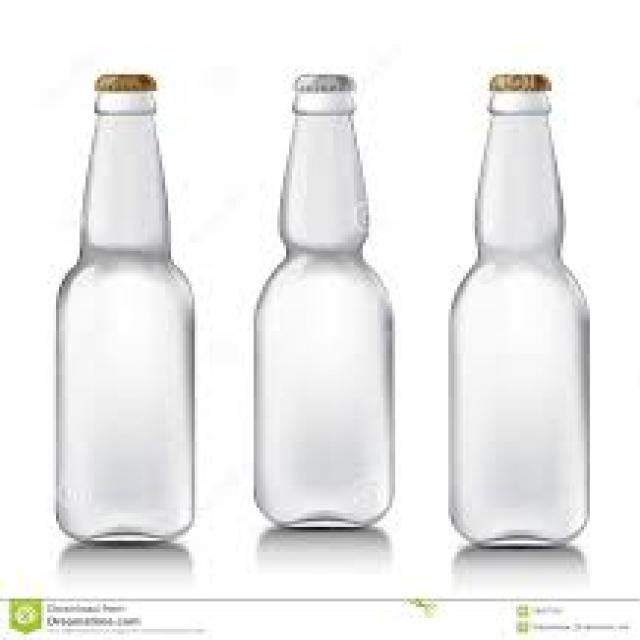Glass-Non-Biodegradable but Recyclable-: (51, 66, 199, 548)
